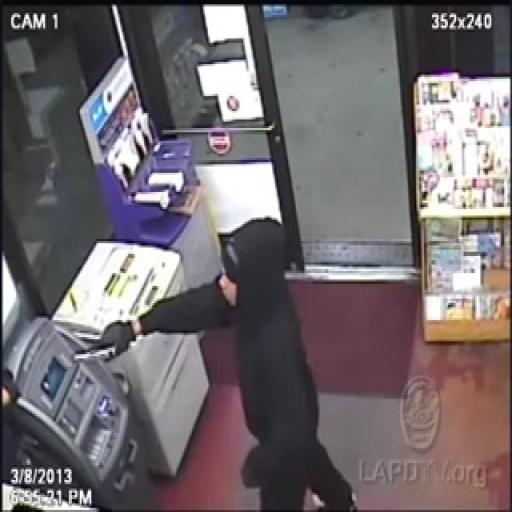Handgun: (67, 316, 131, 362)
